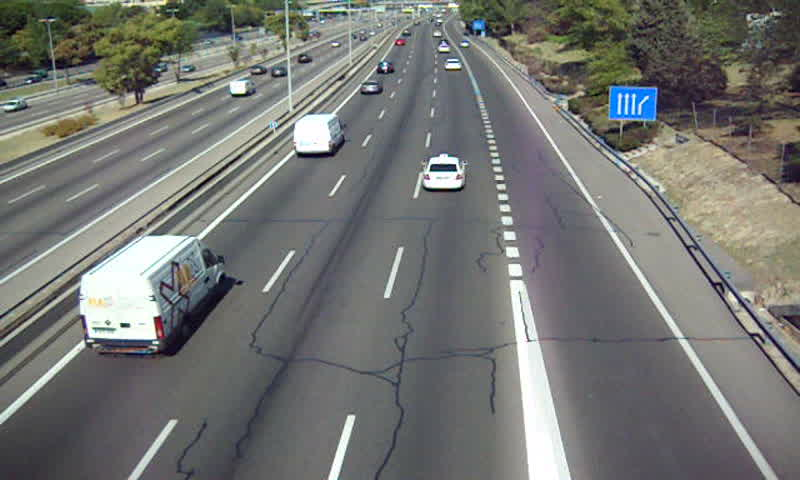car: (422, 156, 468, 190), (358, 80, 381, 97), (377, 59, 394, 76), (443, 58, 462, 72)
van: (78, 236, 225, 356), (292, 114, 344, 156)
